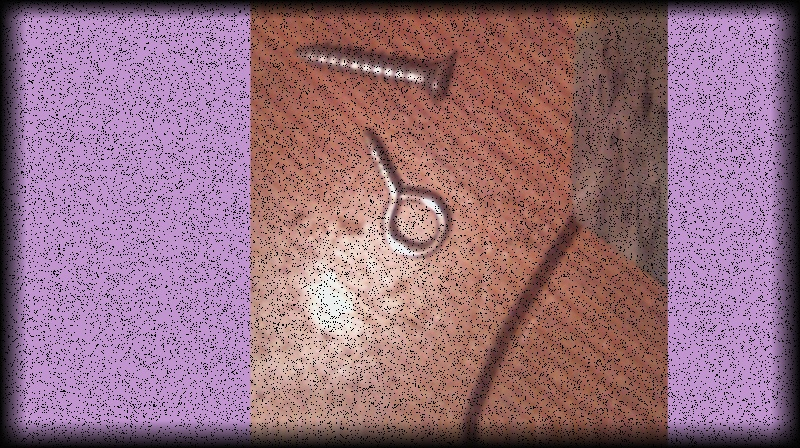O001: (361, 120, 453, 258)
S001: (292, 39, 456, 103)
